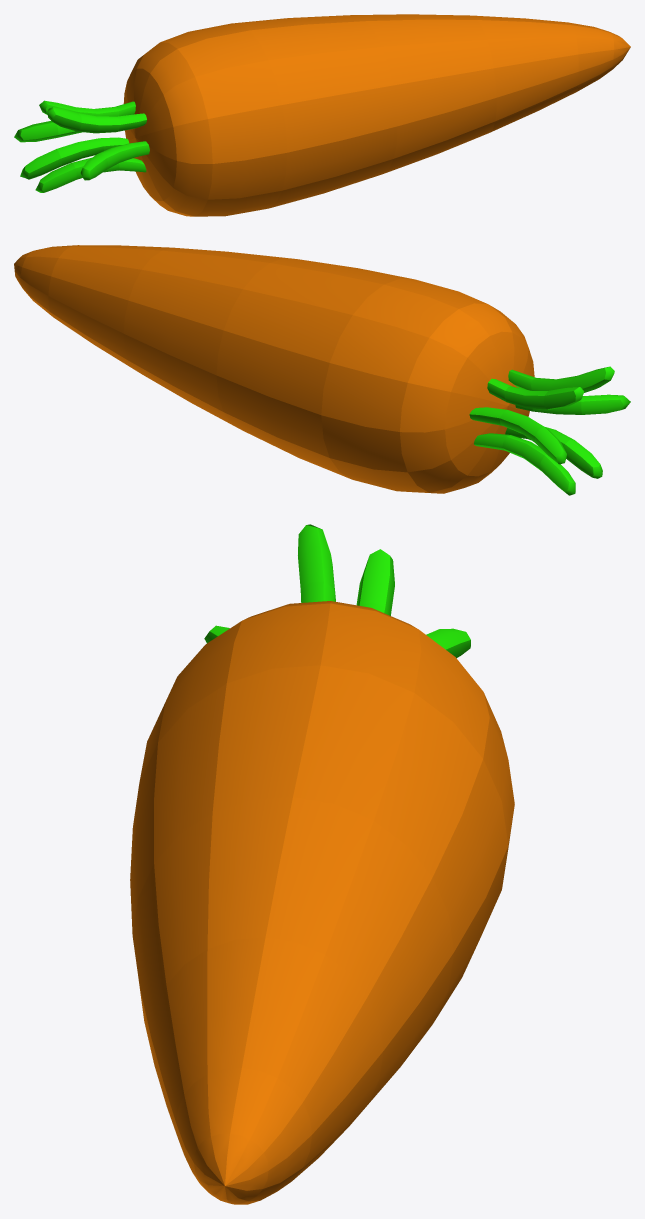
Rendered from carrot 2.fbx.
3 views of the same model, one above another, from view 1: azimuth 30°, elevation 25°; view 2: azimuth 150°, elevation 25°; view 3: azimuth 270°, elevation 25° (orthographic). The views are drawn at different scales.
Visible parts, largest first — view 1: Sphere.015; view 2: Sphere.015; view 3: Sphere.015.
Boxes of the visible parts, <box> form: Sphere.015: <box>14,14,630,216</box>; Sphere.015: <box>14,245,630,495</box>; Sphere.015: <box>130,524,514,1204</box>.
Size of the model in its own units: 280 by 81.71 by 82.89.
